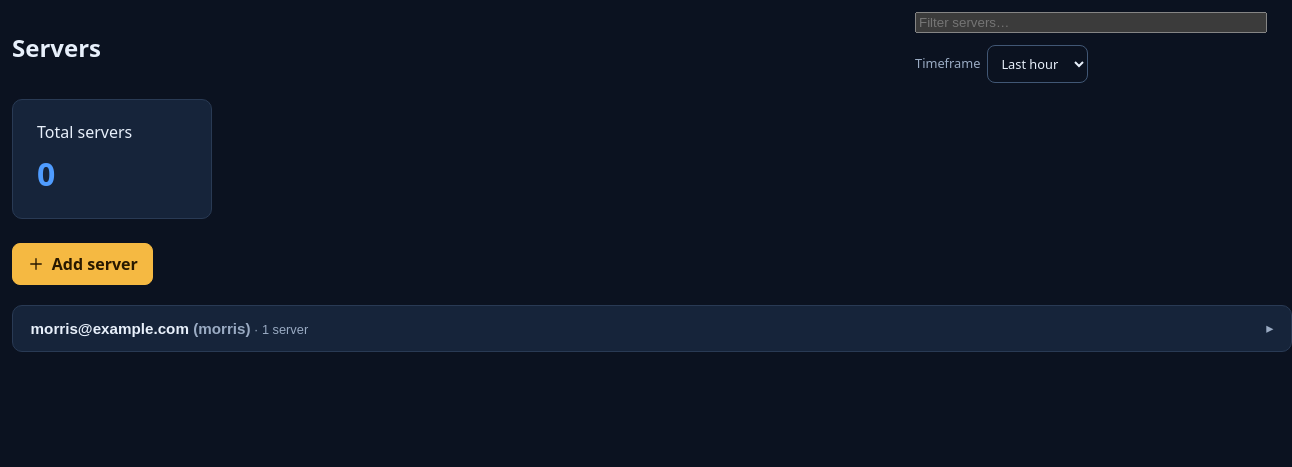
Test: ServersView › shows a Create server card behind the Add server button
Expected: the heading "create server" is not shown
Click the button "Add server".
click(83, 264)  # box 12,243 -> 153,285
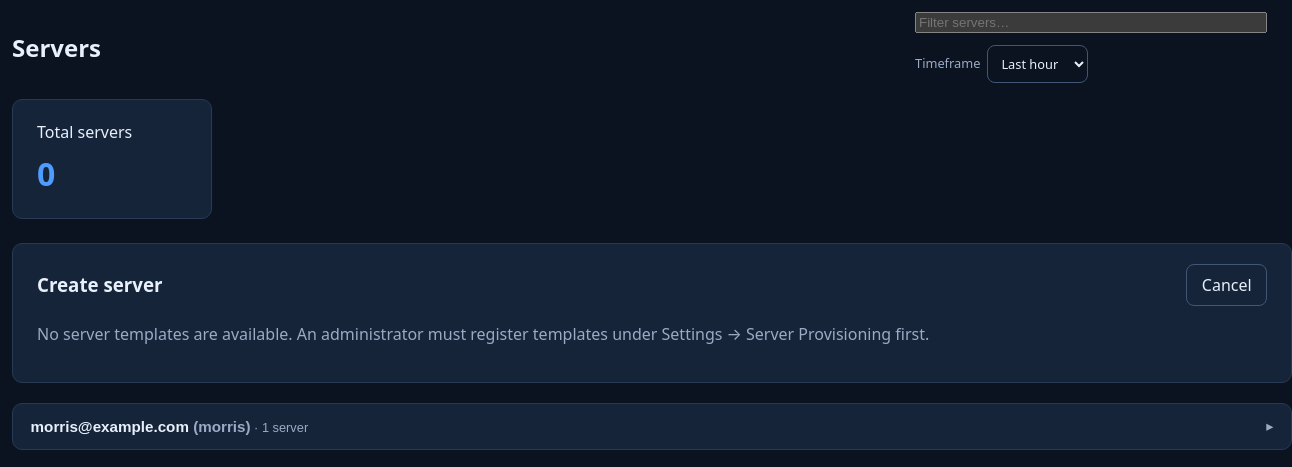
Now the heading "Create server" is shown, box 37,270 -> 162,299
